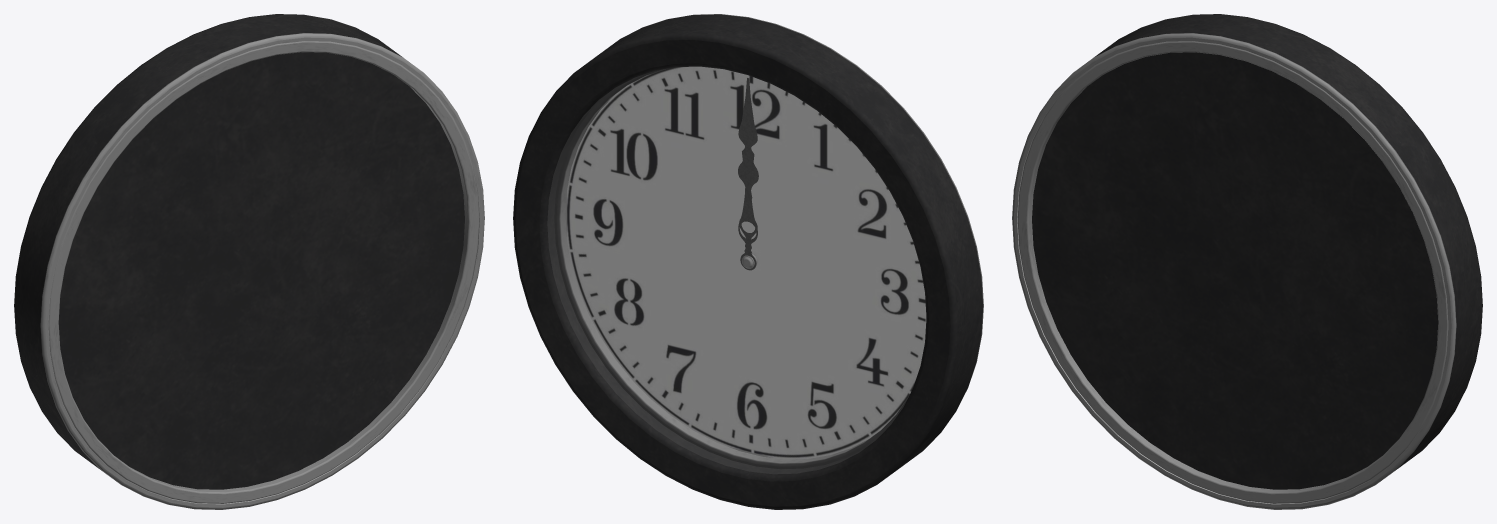
Rendered from wall_clock.gltf.
The picture shows the model from 3 angles, left to right: view 1: azimuth 30°, elevation 25°; view 2: azimuth 150°, elevation 25°; view 3: azimuth 330°, elevation 25°; orthographic projection.
Parts seen in each view (by area): view 1: 01_3_Base_0; view 2: 01_3_Base_0, la_2; view 3: 01_3_Base_0.
Part boxes in pixels (x1,y1,x2,y2): 01_3_Base_0: (14, 14, 484, 509); 01_3_Base_0: (513, 14, 983, 509); la_2: (738, 78, 757, 256); 01_3_Base_0: (1012, 14, 1482, 509).
Size of the model in its own units: 18.66 by 18.63 by 2.19.
2 materials, 1 textured.
